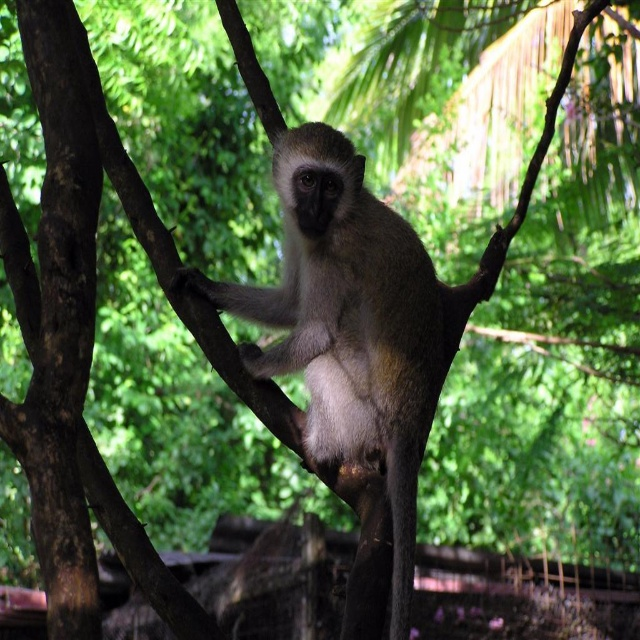Monkey: (200, 137, 494, 591)
